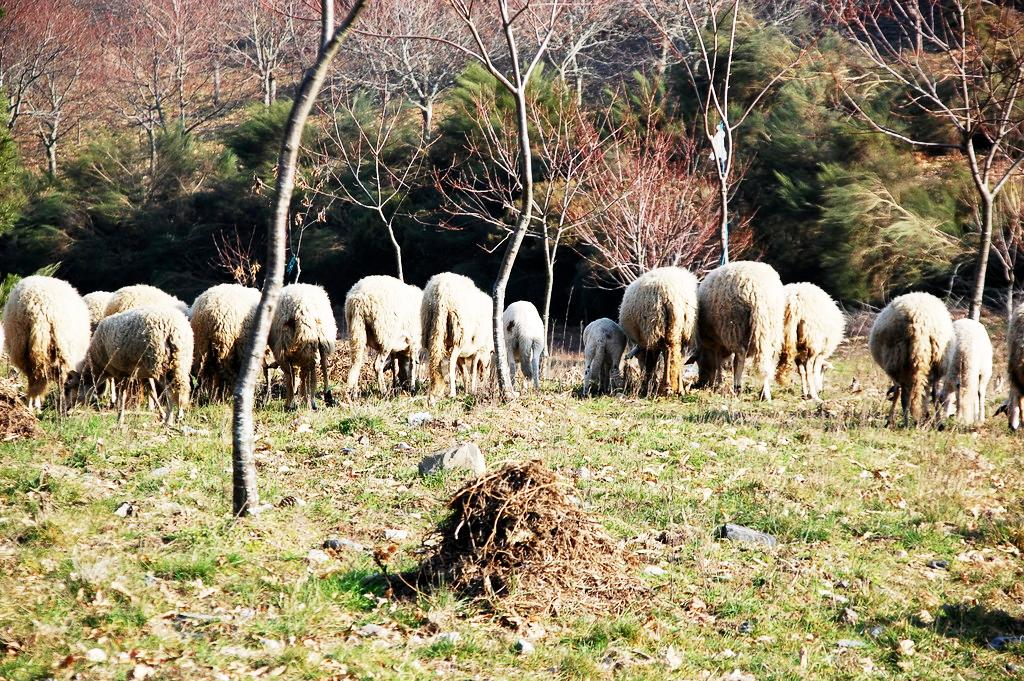Sheep: (0, 272, 92, 418), (694, 260, 789, 401), (620, 267, 708, 401), (871, 289, 952, 431), (90, 310, 192, 421), (343, 274, 426, 399), (190, 282, 268, 401), (420, 272, 494, 395), (779, 279, 848, 401), (272, 279, 335, 411), (943, 312, 997, 436), (493, 296, 550, 390), (78, 288, 166, 339), (580, 314, 629, 401), (104, 284, 191, 332)
